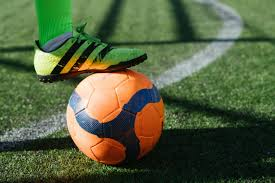football ball: (63, 67, 165, 166)
